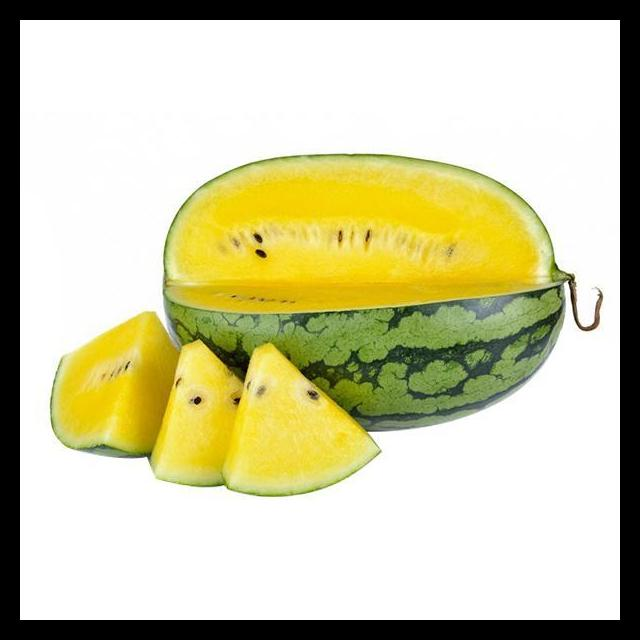watermelon: (159, 154, 571, 433), (219, 340, 383, 494), (50, 310, 176, 462), (151, 337, 245, 486)
